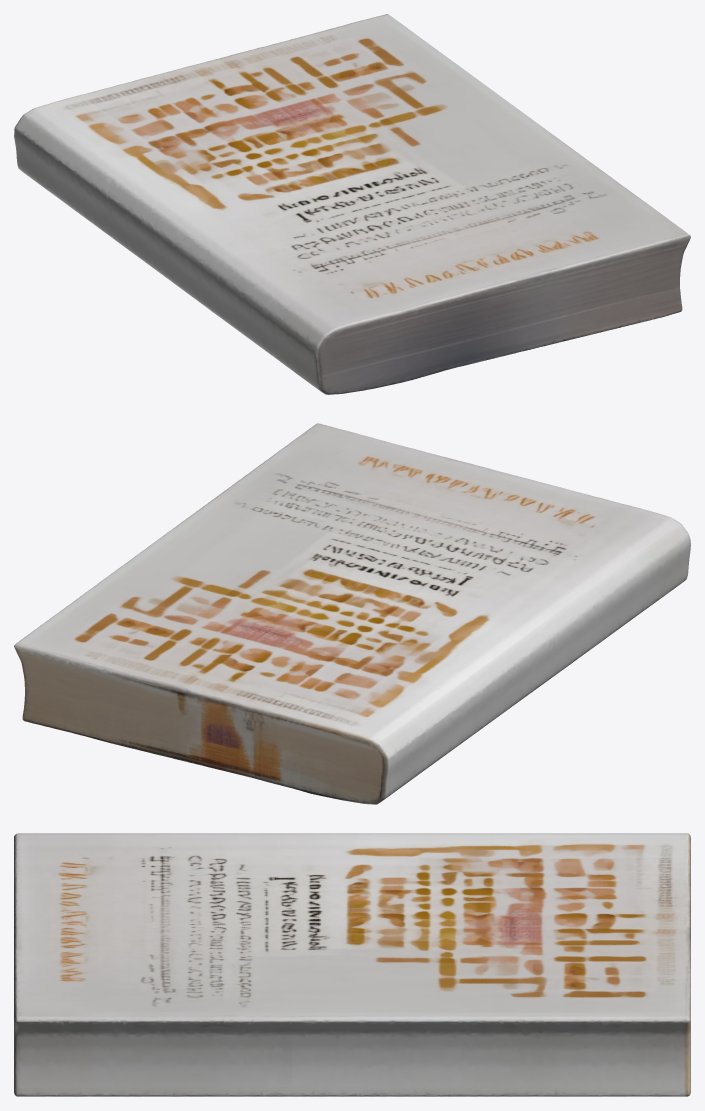
Rendered from model-trellis2.glb.
The picture shows the model from 3 angles, top to bottom: view 1: azimuth 30°, elevation 25°; view 2: azimuth 150°, elevation 25°; view 3: azimuth 270°, elevation 25°; orthographic projection. The views are drawn at different scales.
Parts seen in each view (by area): view 1: world; view 2: world; view 3: world.
Part boxes in pixels (box(x1,y1,x2,y2)): world: box(14, 14, 690, 394); world: box(14, 423, 690, 804); world: box(14, 833, 690, 1096).
Size of the model in its own units: 0.7143 by 0.1409 by 1.
1 material, 1 textured.
